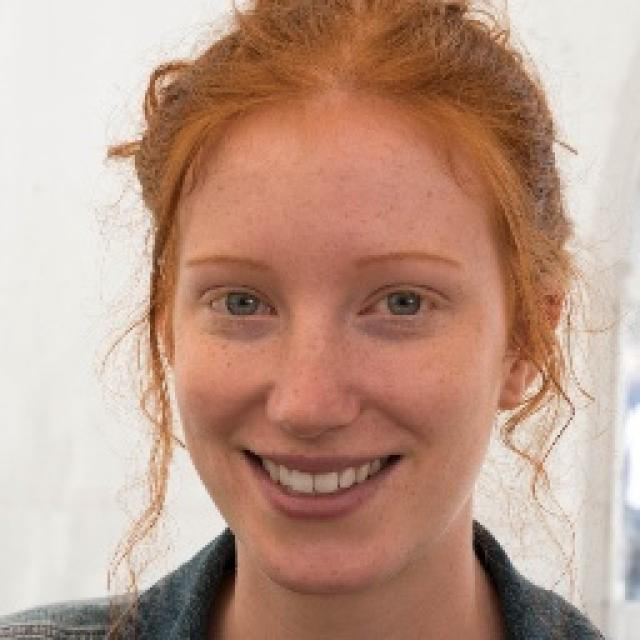earlobe: (498, 265, 570, 410)
